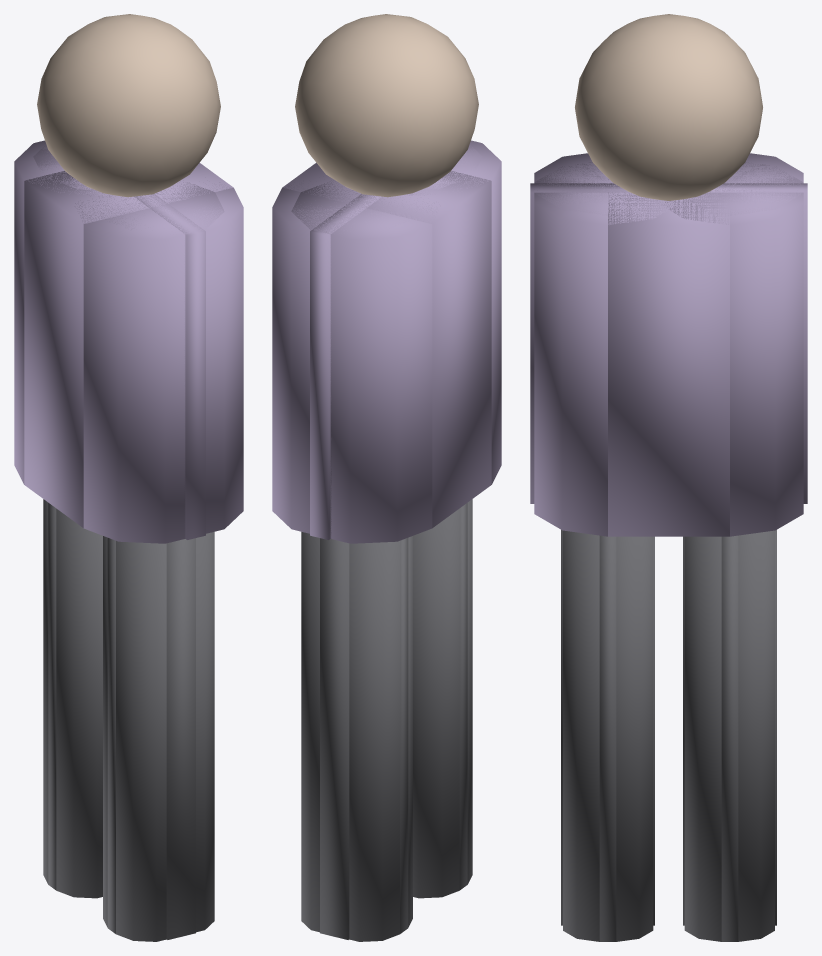
Rendered from person_lilac.glb.
3 renders of one model, left to right at view 1: azimuth 30°, elevation 25°; view 2: azimuth 150°, elevation 25°; view 3: azimuth 270°, elevation 25°, orthographic. The views are drawn at different scales.
Parts seen in each view (by area): view 1: person_lilac; view 2: person_lilac; view 3: person_lilac.
Part boxes in pixels (box(x1,y1,x2,y2)): person_lilac: box(14, 14, 243, 941); person_lilac: box(272, 14, 501, 941); person_lilac: box(530, 14, 807, 941).
Bounding box in the file's own units: 0.34 × 1.78 × 0.5.
